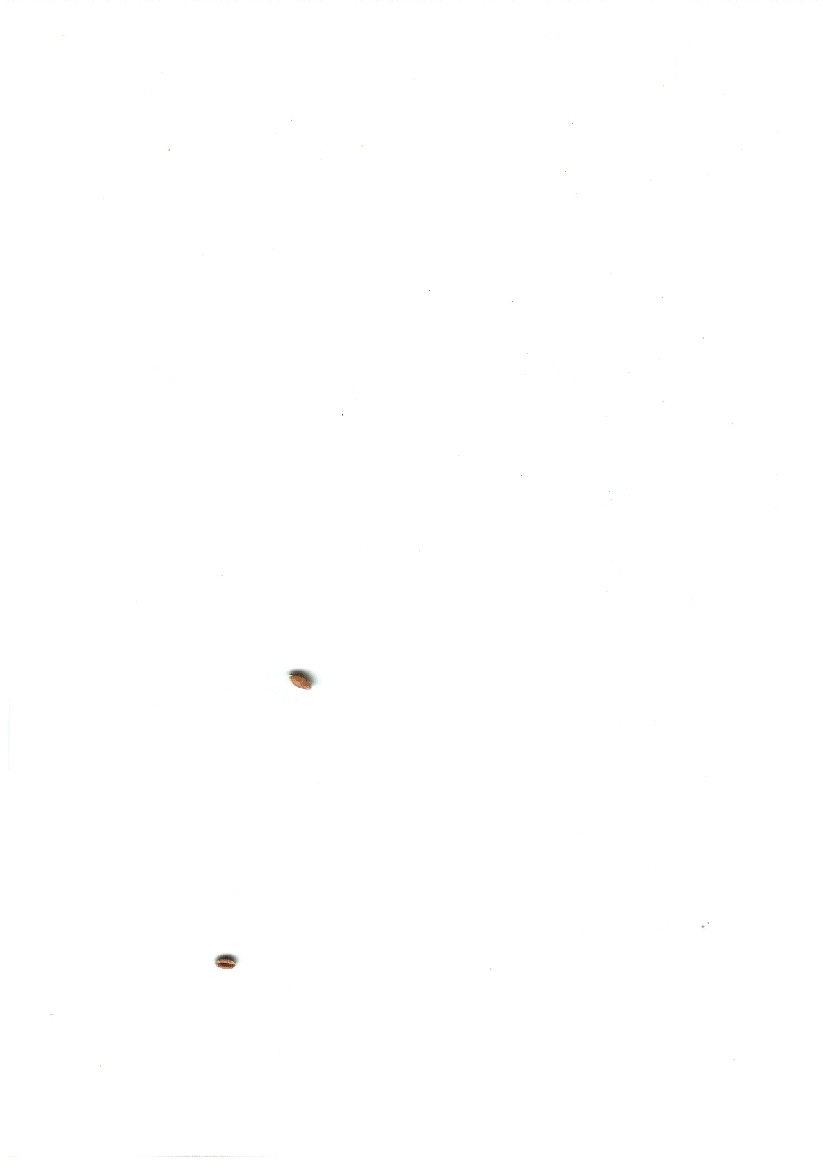grains: (196, 936, 247, 990), (273, 656, 325, 706)
